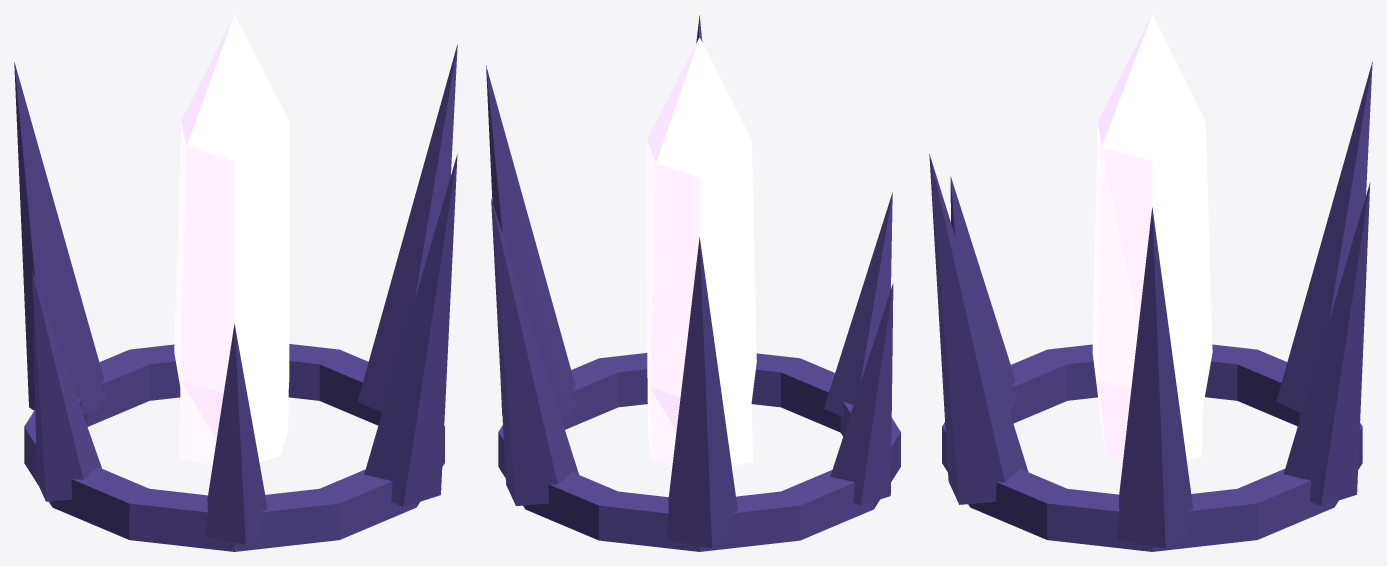
The model's file is dc_kade_crown_violet.glb.
The picture shows the model from 3 angles, left to right: view 1: azimuth 30°, elevation 25°; view 2: azimuth 150°, elevation 25°; view 3: azimuth 270°, elevation 25°; orthographic projection. The views are drawn at different scales.
Parts seen in each view (by area): view 1: part.dc_kade_crown_violet; view 2: part.dc_kade_crown_violet; view 3: part.dc_kade_crown_violet.
Boxes of the visible parts, box(x1,y1,x2,y2) form: part.dc_kade_crown_violet: box(14, 14, 457, 551); part.dc_kade_crown_violet: box(486, 15, 900, 551); part.dc_kade_crown_violet: box(929, 14, 1372, 551).
Size of the model in its own units: 0.3102 by 0.3127 by 0.2798.
